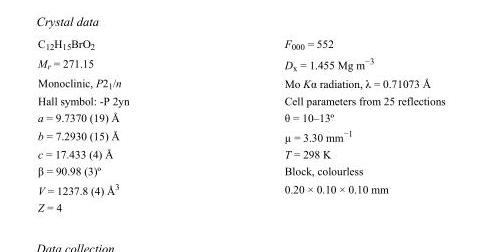table: (37, 36, 444, 213)
table column: (206, 36, 444, 213), (37, 36, 206, 213)
table row: (37, 53, 444, 74), (37, 125, 444, 145), (37, 178, 444, 198), (37, 74, 444, 92), (37, 36, 444, 53), (37, 108, 444, 125), (37, 161, 444, 178), (37, 92, 444, 108), (37, 145, 444, 161), (37, 198, 444, 213)
